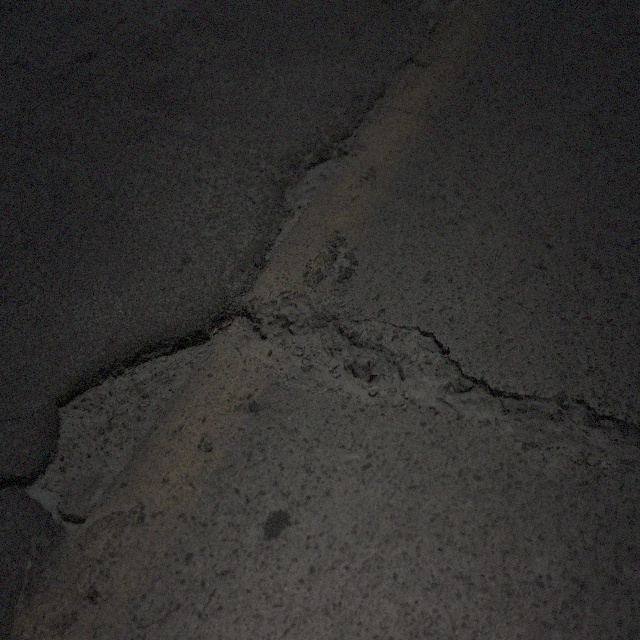pothole: (30, 314, 210, 549), (220, 267, 455, 417)
